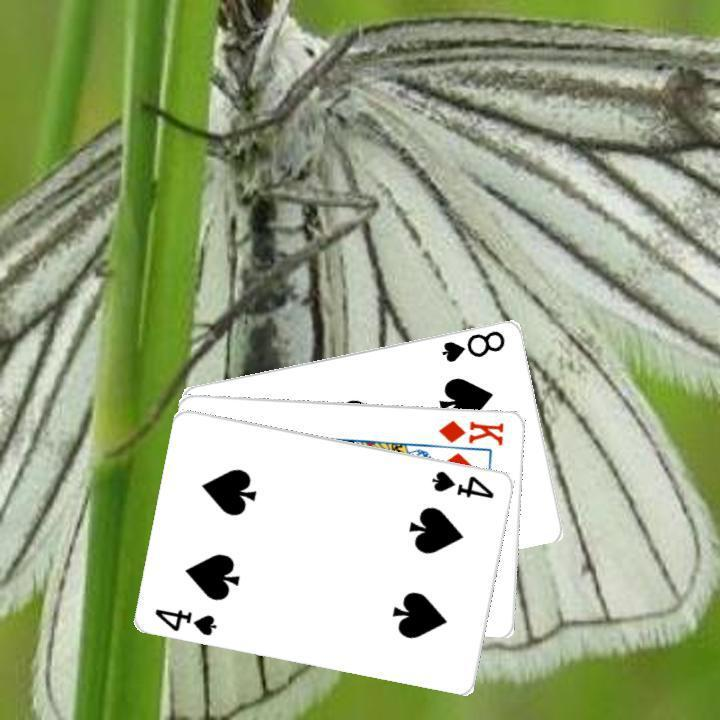4: (151, 603, 219, 638), (428, 466, 497, 500)
8: (437, 326, 507, 364)
K: (434, 415, 507, 447)
